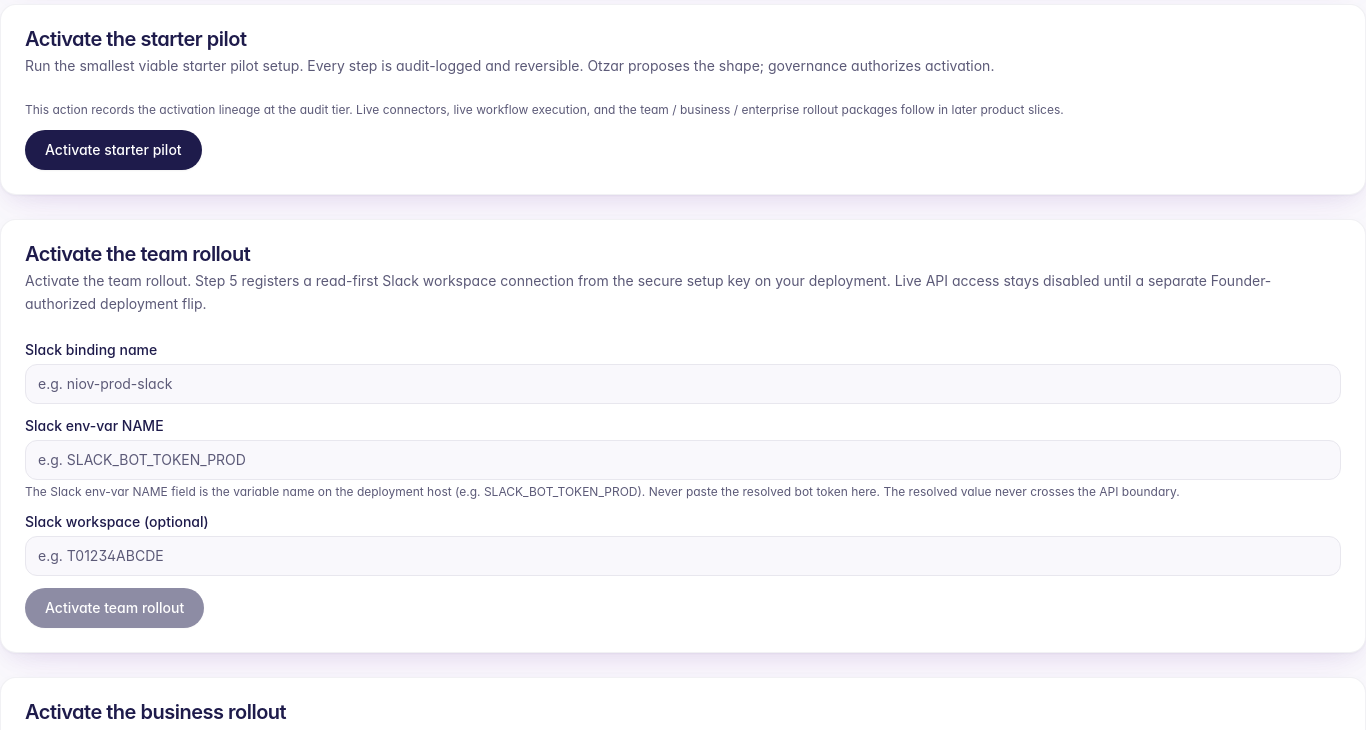
Scenario: D6 team — successful activation › highlights step 5 with the 'Slack binding' badge
(page scrolled)
Type "niov-prod-slack" into the field with test id "team-slack-display-name-input".
click(683, 384); type("niov-prod-slack")  # box [25, 364, 1341, 404]
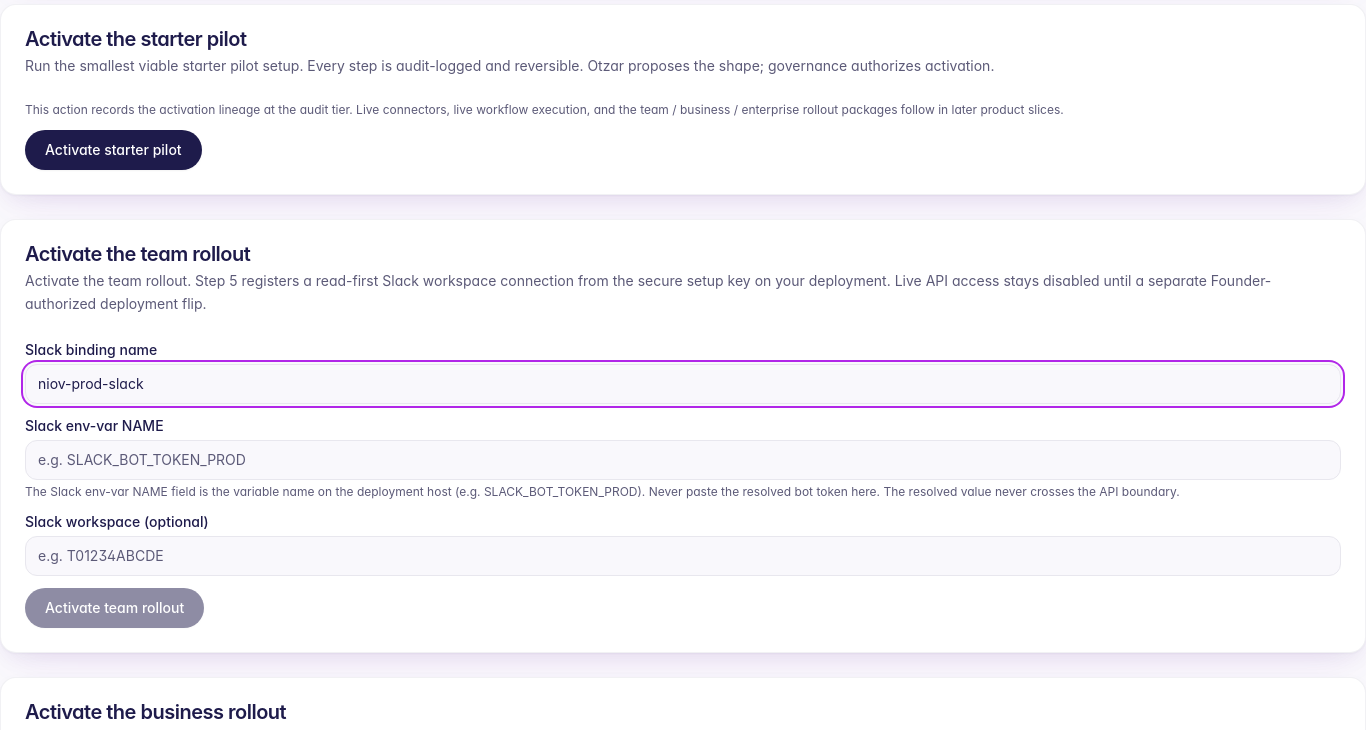
Type "SLACK_BOT_TOKEN_PROD" into the field with test id "team-slack-secret-ref-input".
click(683, 460); type("SLACK_BOT_TOKEN_PROD")  # box [25, 440, 1341, 480]
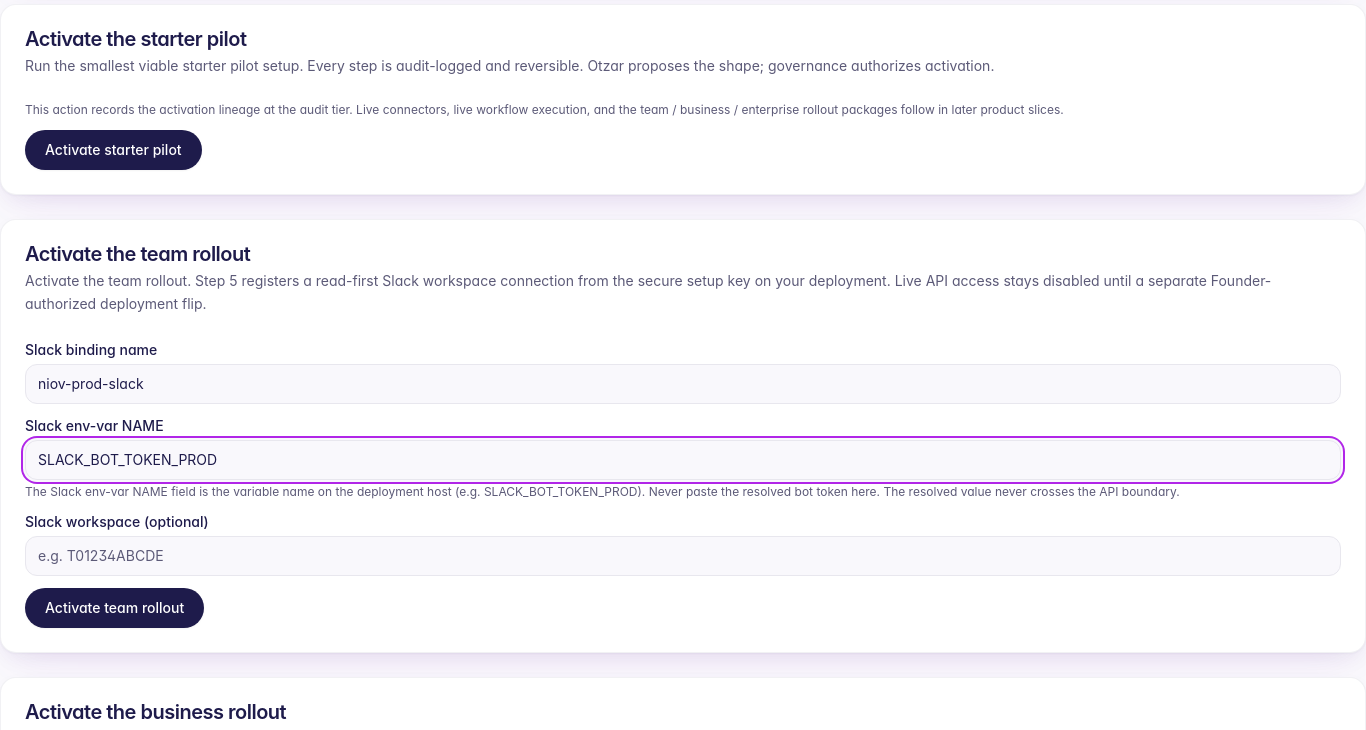
Click the button with test id "activate-team-button".
click(115, 608)  # box [25, 588, 204, 628]
(page scrolled)
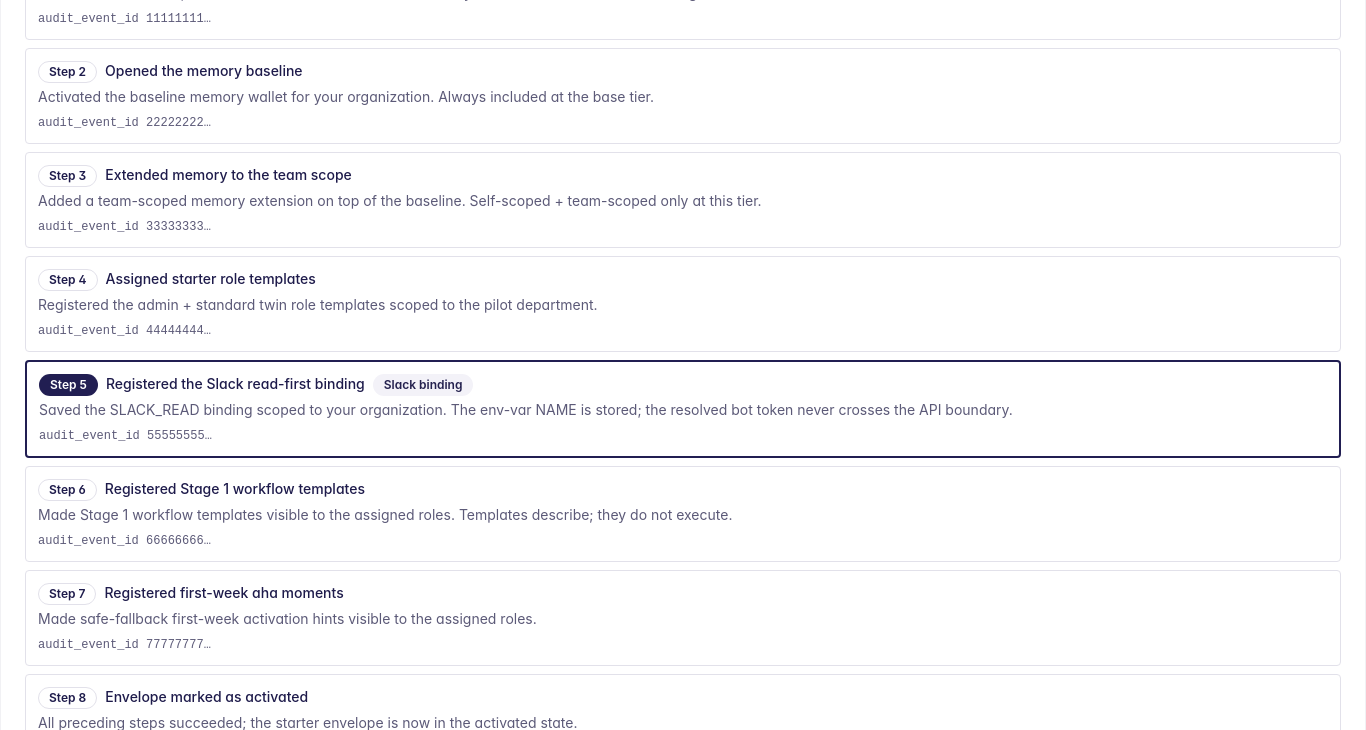
Expected: the text "Slack binding" is shown, [373, 374, 473, 396]
Expected: the text "Registered the Slack read-first binding" is shown, [106, 374, 365, 394]
